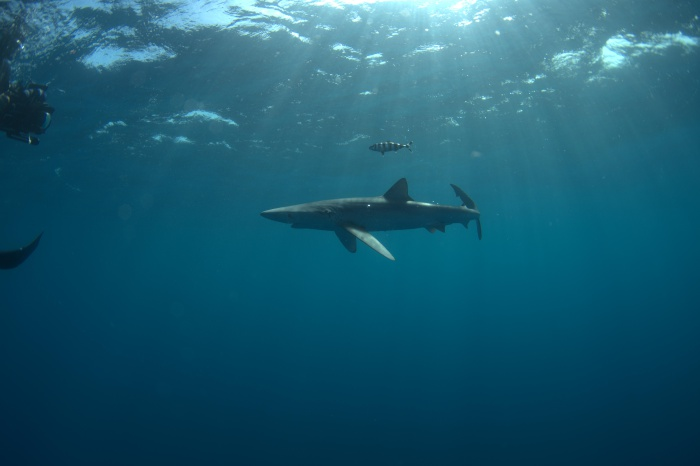Azul: (270, 162, 509, 280)
